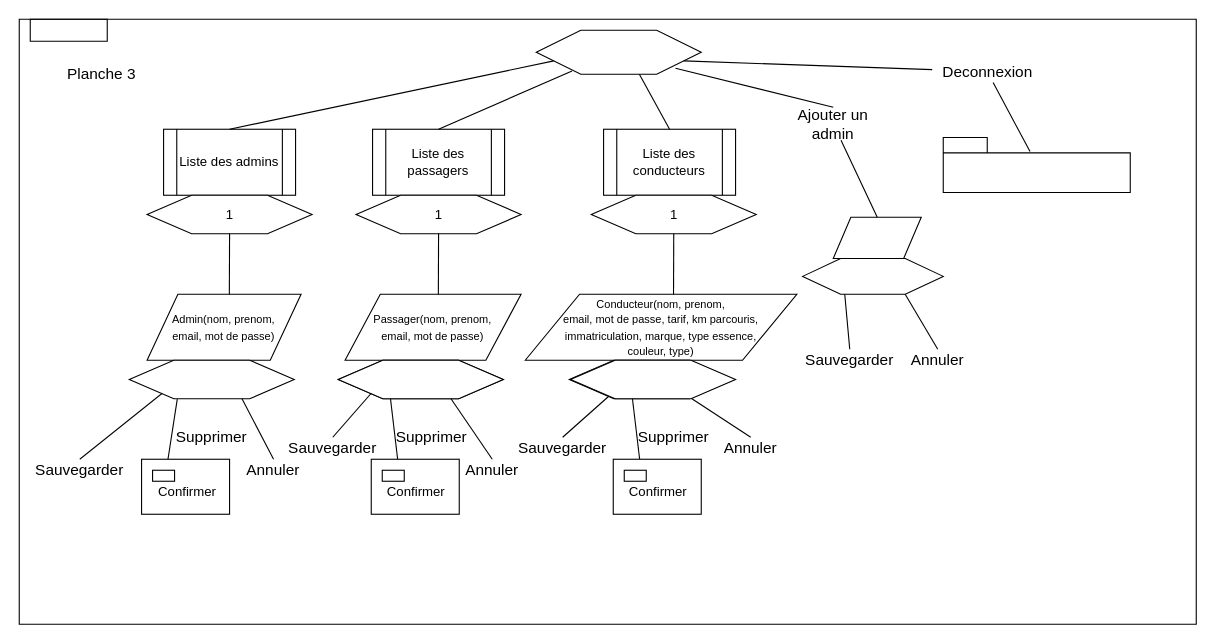
This 1216x644 diagram has some shape labels left out. The centre of each missing label's shape, as x and y in pixels:
Admin: the point at 876,237
connexion: the point at 1036,164
Gérer les utilisateurs: the point at 618,51
